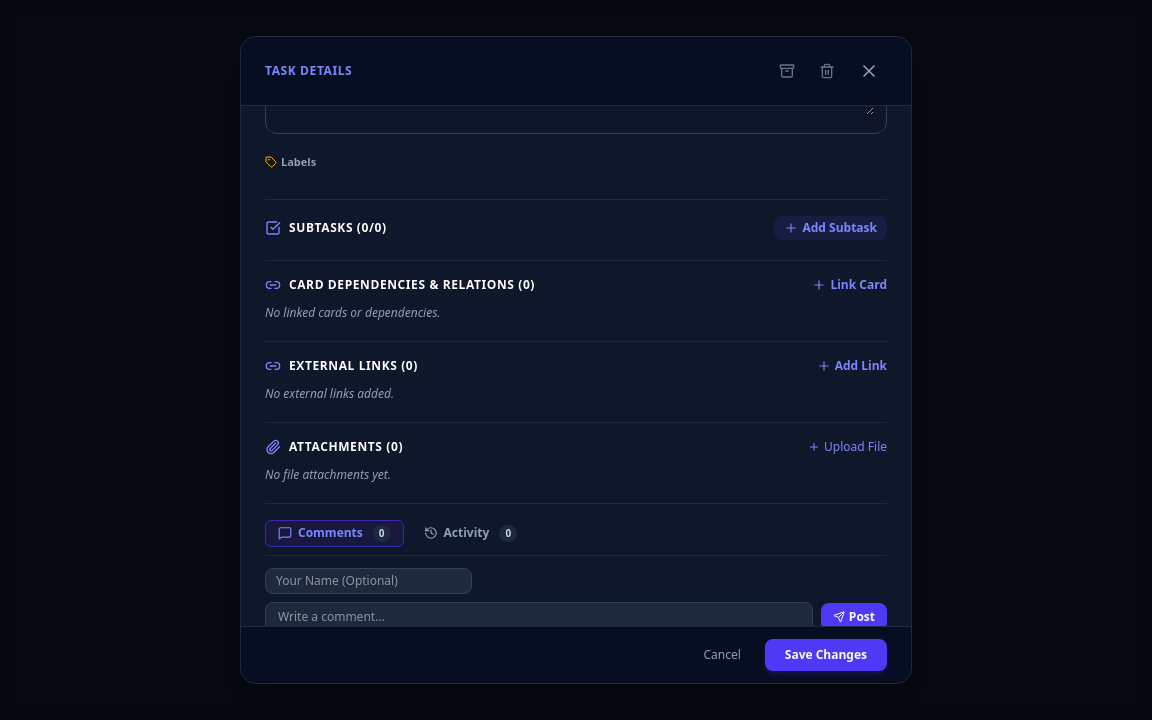
CardDetailModal › shows the server error and keeps the form open when adding a link is rejected
(page scrolled)
Click the button "Add Link" at [852, 366], box [817,358,887,374]
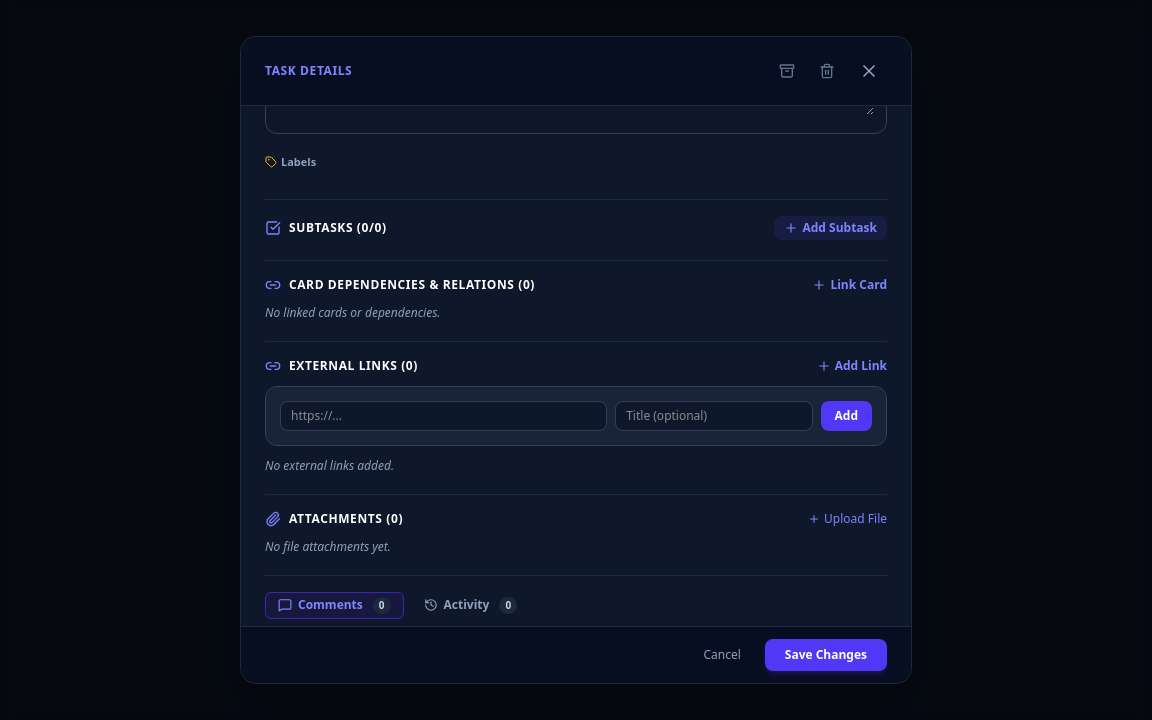
Type "javascript:alert(1)" into the field with placeholder "https://..." at [444, 416], box [280,400,607,430]
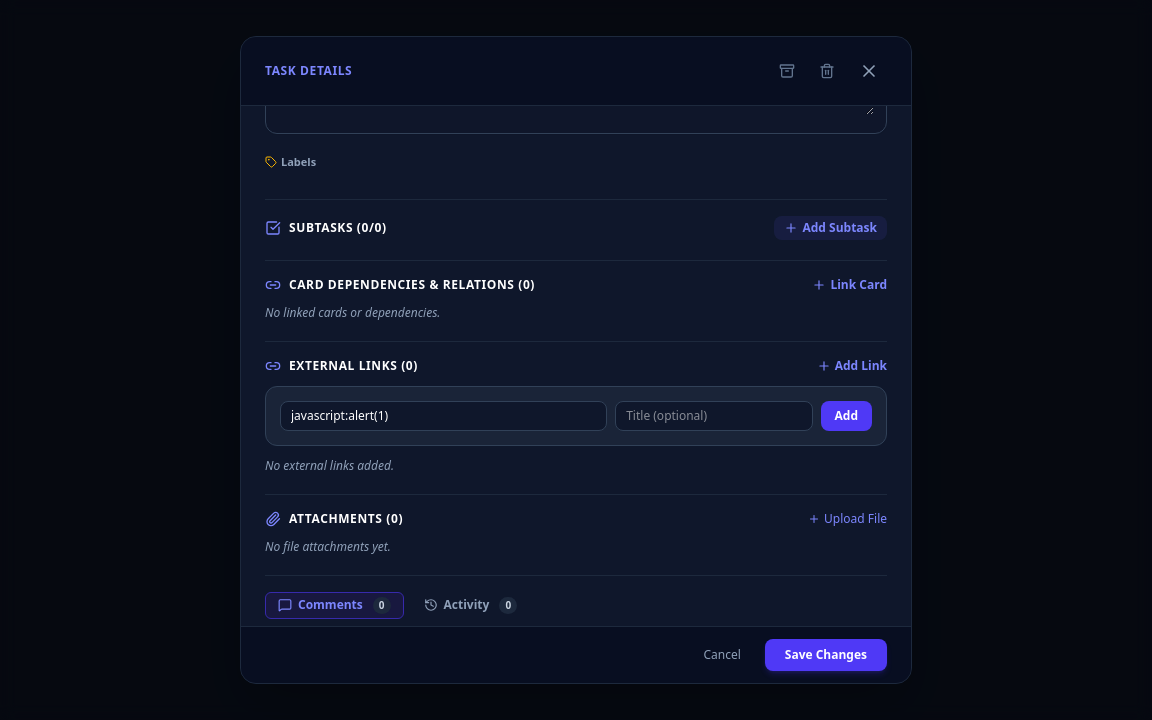
Submit the form with placeholder "https://...", box [265,386,887,446]
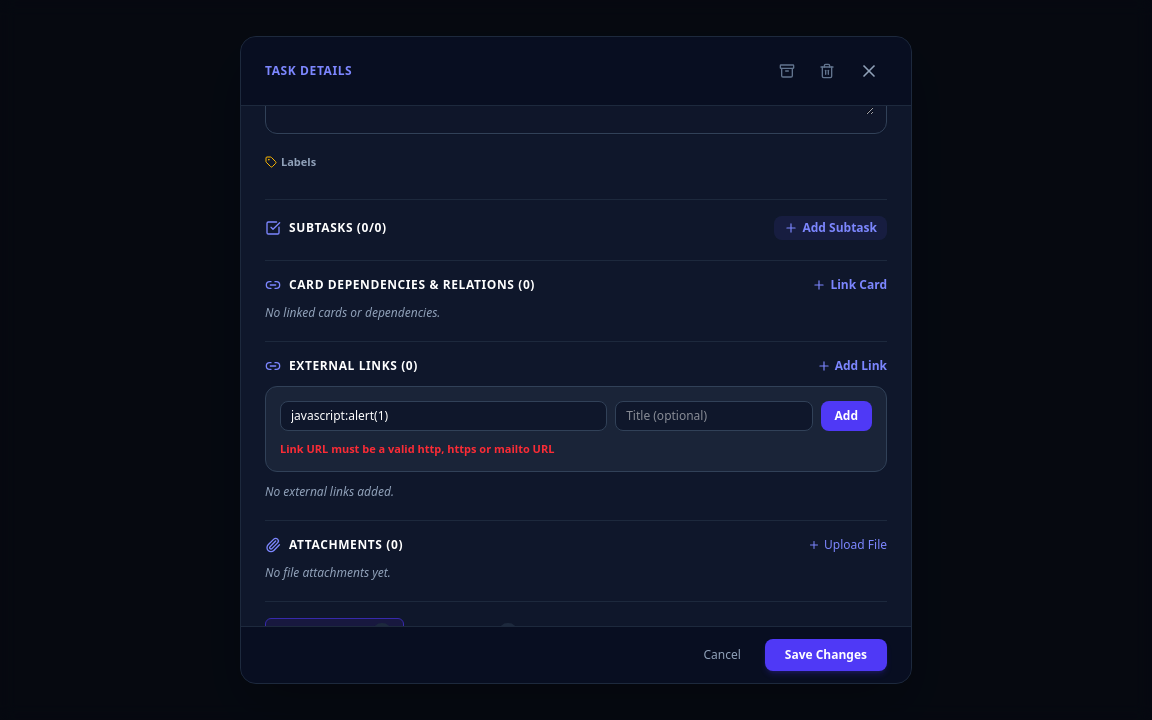
Result: the message reads "Link URL must be a valid http, https or mailto URL" at [280,440,554,456]
Replace the text in the field with placeholder "https://..." with "https://example.com" at [444, 416], box [280,400,607,430]
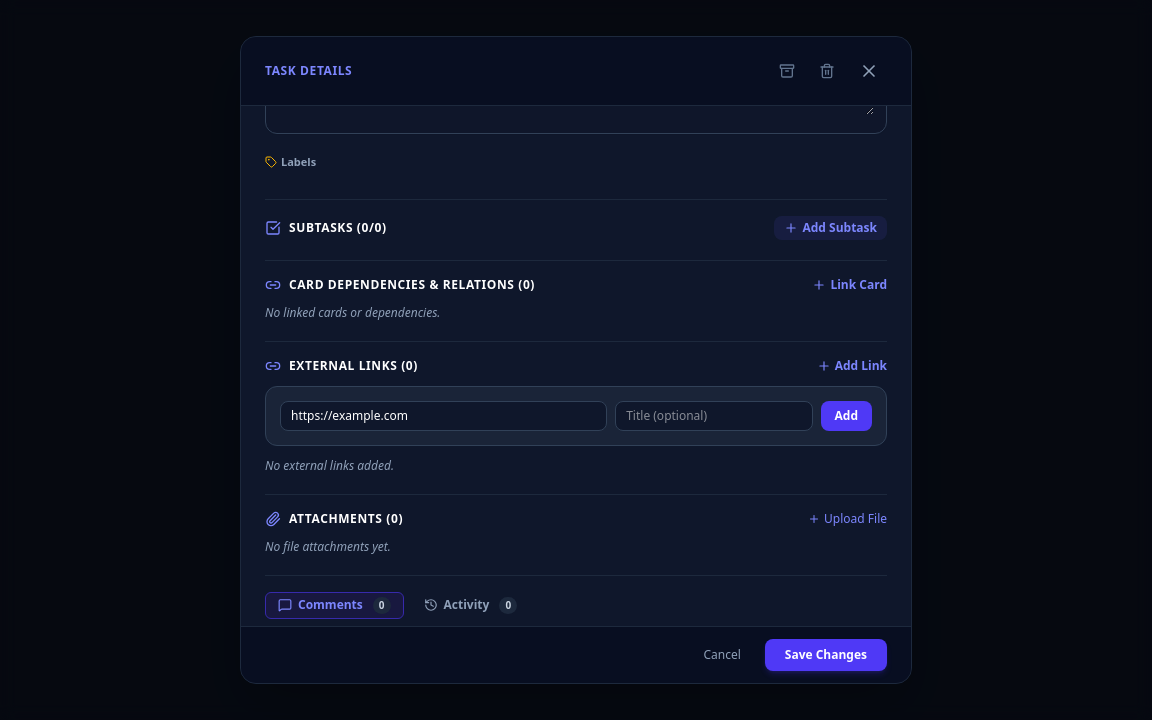
Result: the message "Link URL must be a valid http, https or mailto URL" is gone
